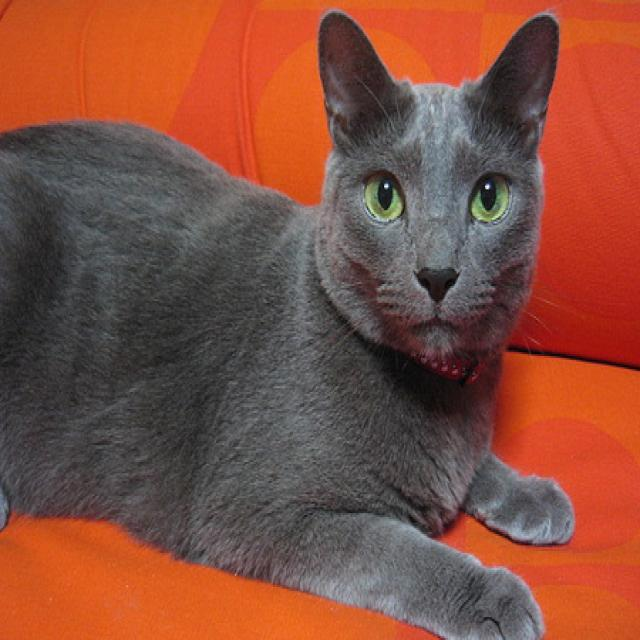Russian Blue: (0, 5, 579, 640)
